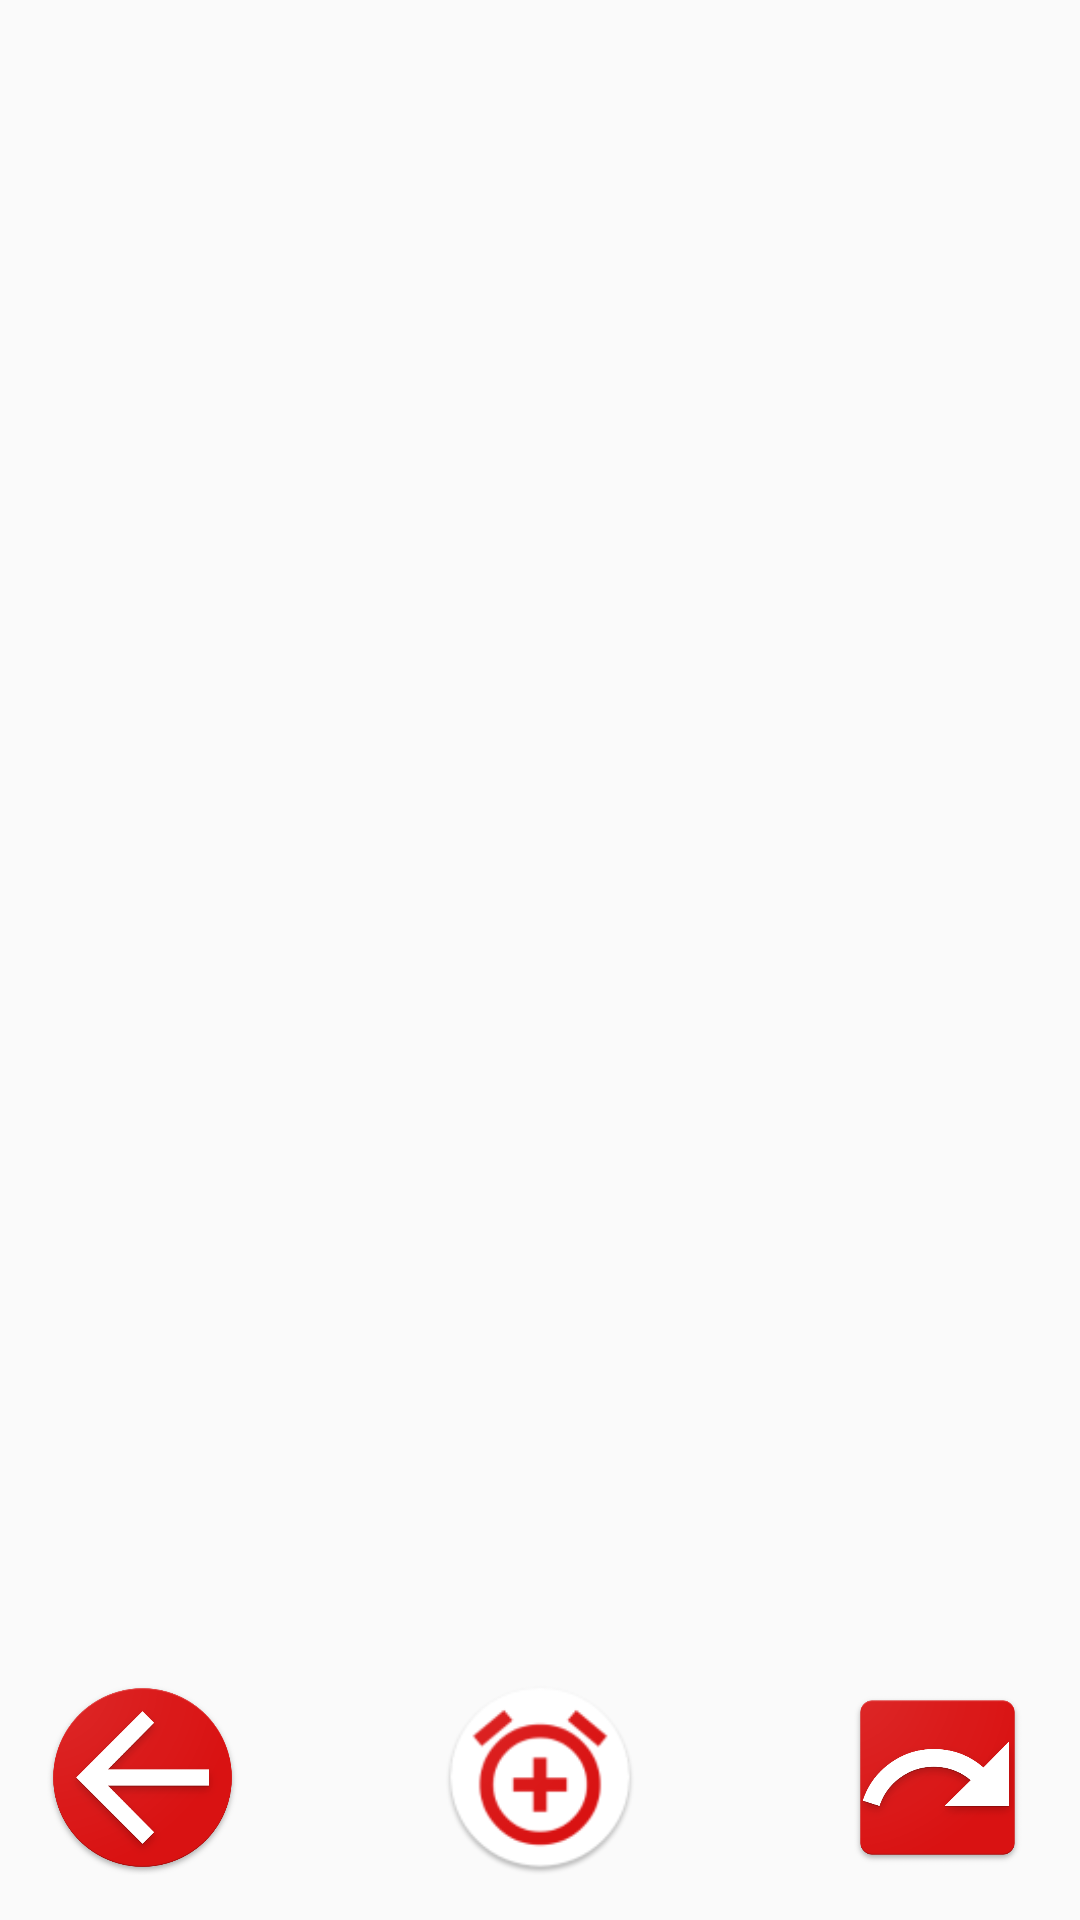

Where to tap for icons on this 1080×1920 app screen, as (x,y):
cronometro: (540,1790)
pular: (937,1779)
voltar: (142,1779)
